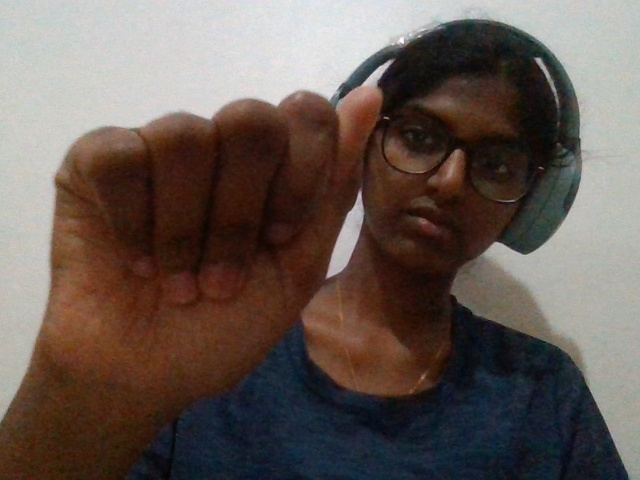A: (1, 28, 389, 445)
